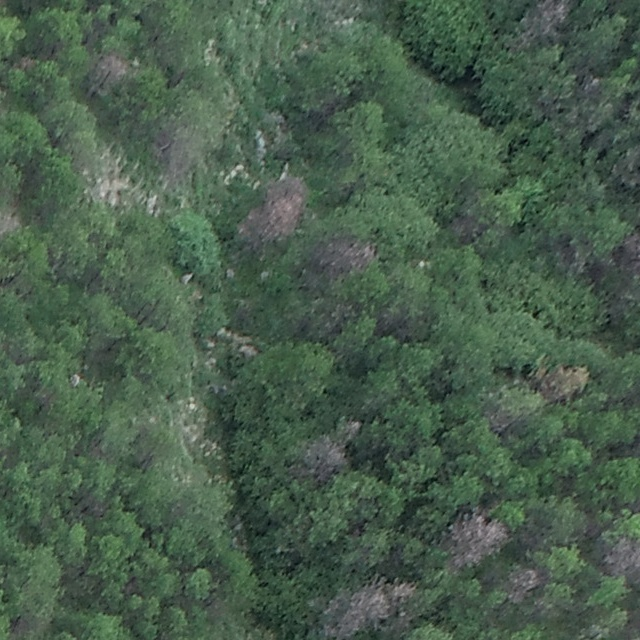unhealthy: (323, 576, 411, 639), (444, 508, 507, 572), (253, 173, 307, 243), (152, 120, 203, 184), (513, 1, 574, 48), (313, 235, 379, 276), (297, 432, 347, 483), (535, 363, 589, 401), (601, 534, 639, 577), (91, 51, 133, 85), (505, 563, 542, 601), (612, 143, 640, 185), (619, 227, 640, 276), (340, 416, 362, 438), (17, 54, 37, 70)
